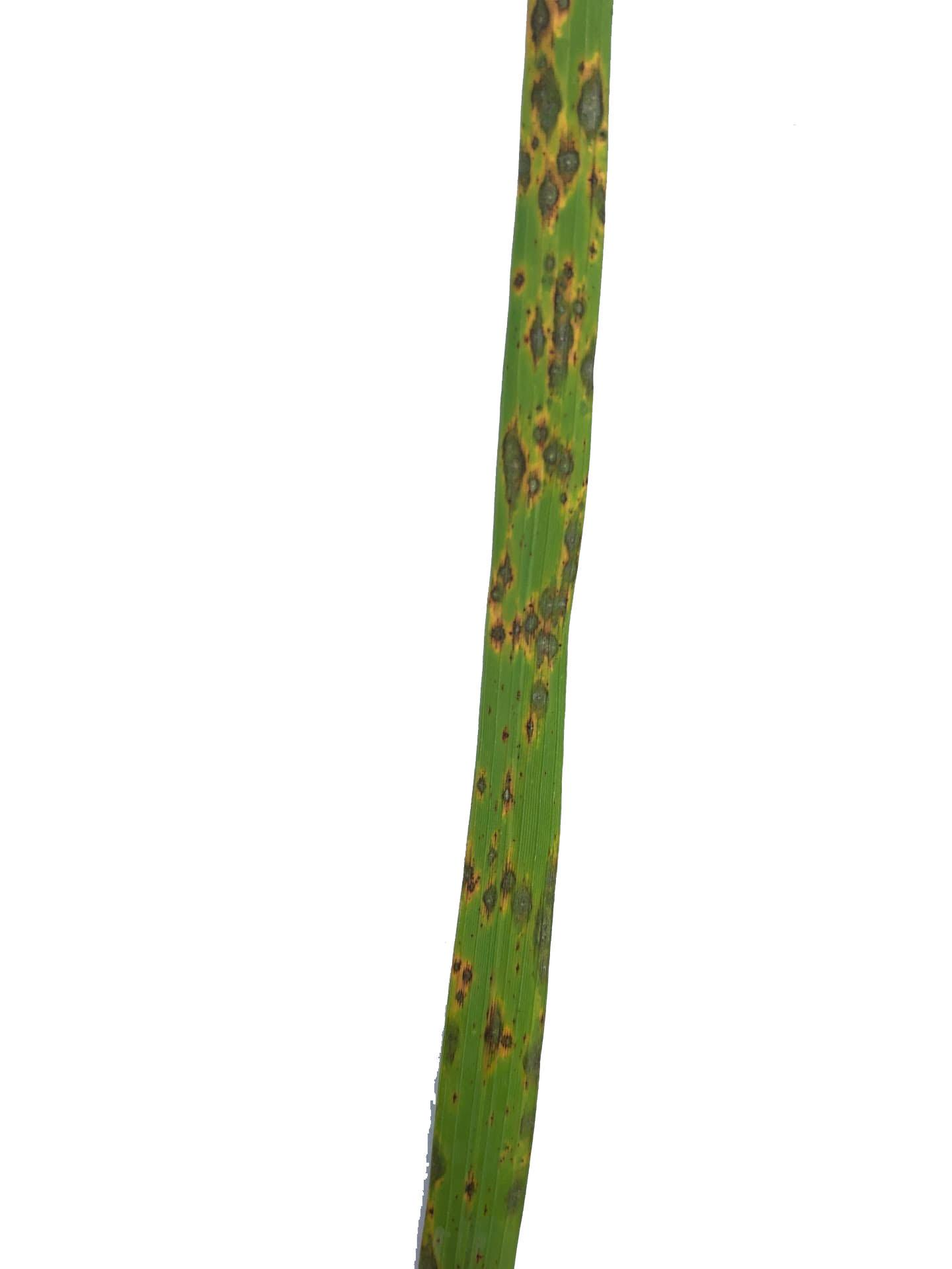Rice blast: (546, 256, 585, 401), (575, 57, 607, 147), (498, 415, 525, 517), (480, 998, 516, 1073), (524, 2, 557, 63), (551, 133, 579, 199), (536, 63, 558, 146), (538, 435, 575, 483), (581, 163, 607, 231), (525, 305, 550, 374), (527, 670, 547, 748), (558, 504, 578, 582), (535, 588, 569, 626), (540, 164, 558, 235), (576, 339, 593, 410), (453, 954, 474, 1011), (518, 146, 536, 205), (495, 764, 514, 817), (472, 882, 497, 922), (536, 631, 562, 667), (499, 865, 522, 900), (456, 1167, 475, 1208), (491, 617, 508, 656), (495, 559, 515, 586), (533, 418, 551, 447), (548, 0, 575, 19), (524, 603, 538, 635), (489, 586, 507, 610), (510, 618, 525, 644), (530, 470, 538, 516), (514, 273, 527, 292)
